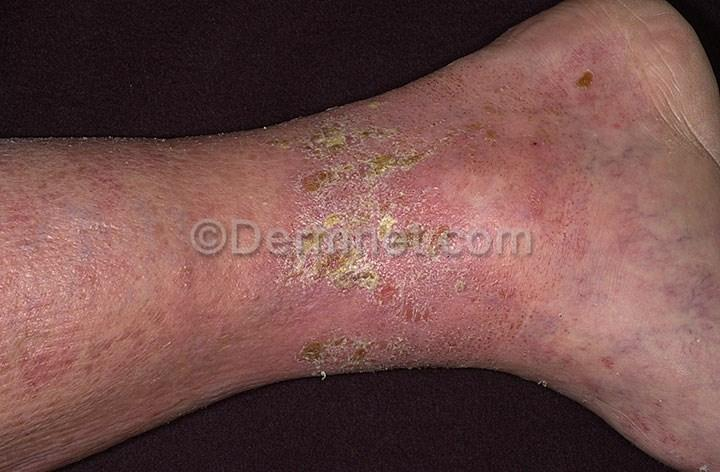Eczema: (275, 215, 373, 293), (7, 319, 93, 406), (197, 124, 293, 196), (507, 73, 579, 165), (568, 321, 652, 398), (294, 101, 393, 165), (83, 305, 169, 378), (367, 266, 443, 347), (518, 197, 596, 275), (422, 95, 513, 161), (381, 156, 479, 217), (155, 282, 227, 364), (442, 265, 523, 337), (277, 309, 369, 370), (140, 230, 214, 305), (71, 167, 144, 243), (64, 249, 146, 315), (526, 135, 599, 208), (619, 381, 689, 452), (377, 215, 474, 264), (602, 172, 658, 255), (603, 83, 671, 151), (6, 197, 73, 265), (556, 34, 628, 95), (409, 333, 509, 375), (288, 165, 374, 213), (10, 259, 74, 315), (137, 158, 198, 216), (518, 267, 591, 314), (479, 165, 533, 224), (23, 147, 84, 195), (363, 334, 409, 375)
